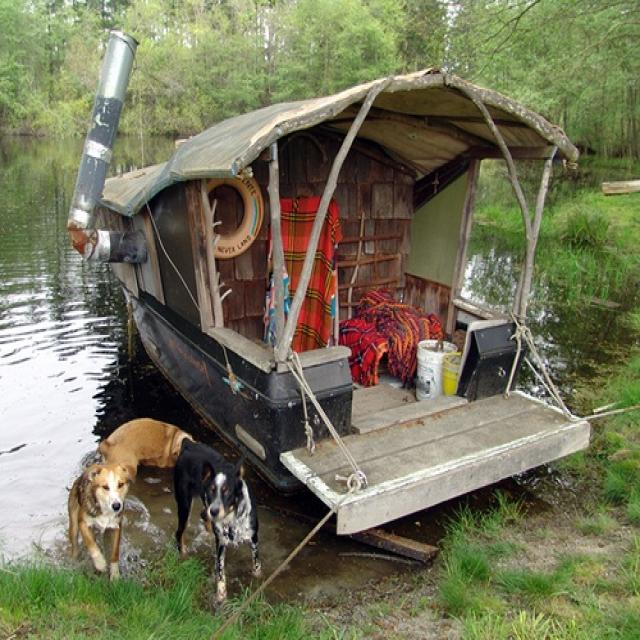dog: (166, 445, 264, 566), (65, 462, 136, 581), (97, 417, 196, 472)
